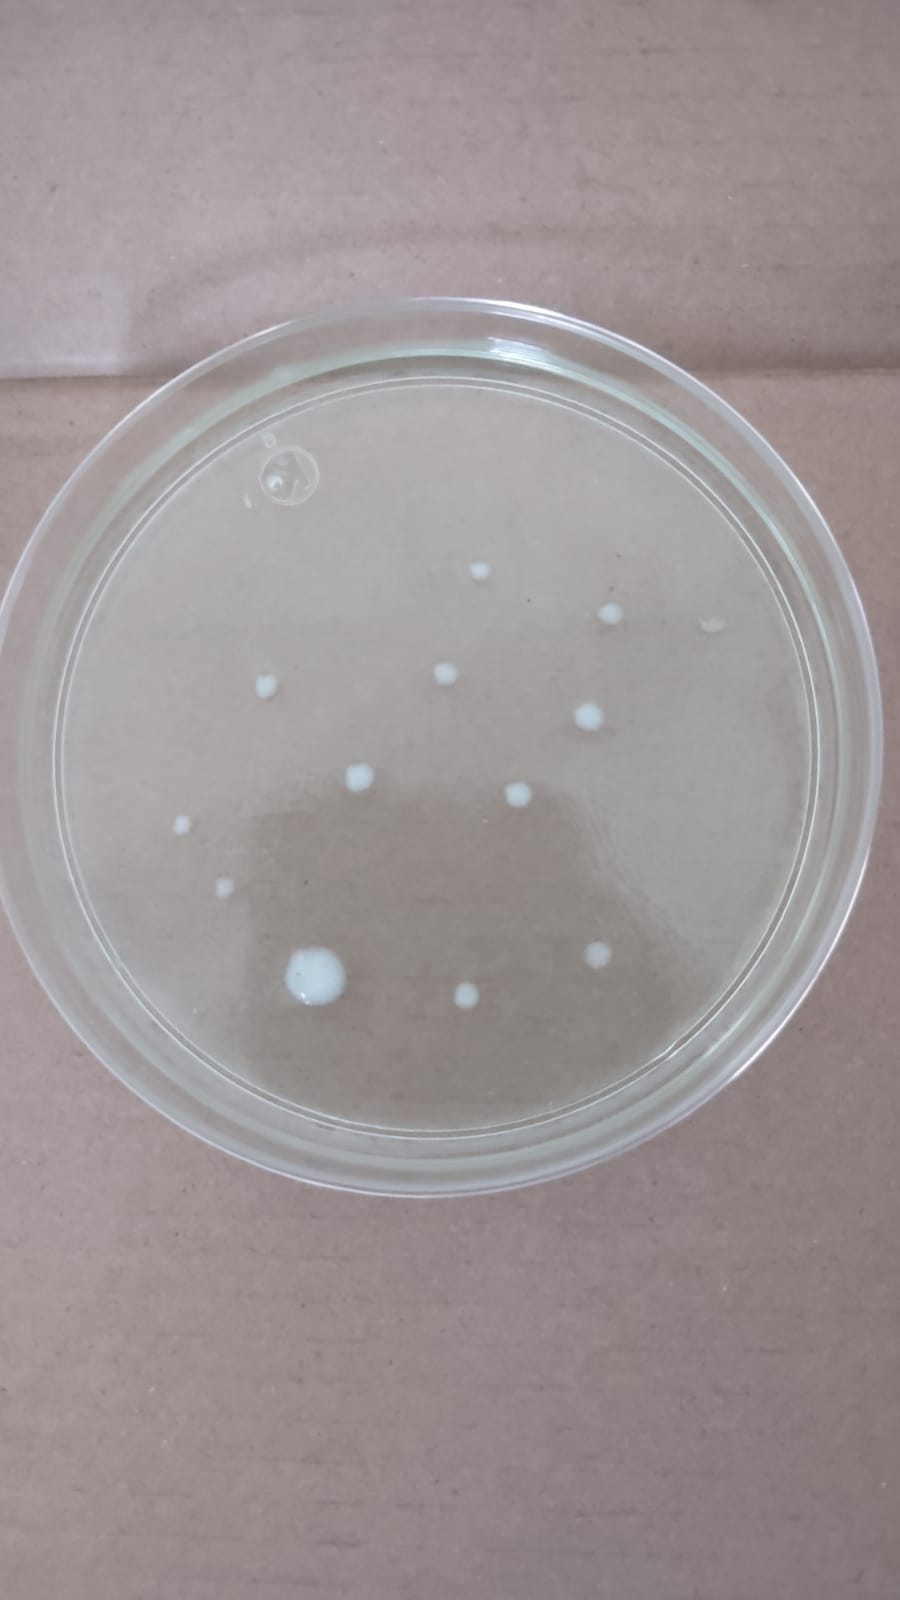Colonia: (280, 937, 353, 1008), (338, 759, 386, 795), (584, 936, 616, 973), (574, 699, 604, 736), (427, 659, 462, 692), (208, 873, 242, 904), (597, 599, 626, 632), (504, 779, 538, 808), (448, 984, 484, 1009), (251, 669, 281, 698), (169, 811, 200, 838), (469, 559, 497, 586)
